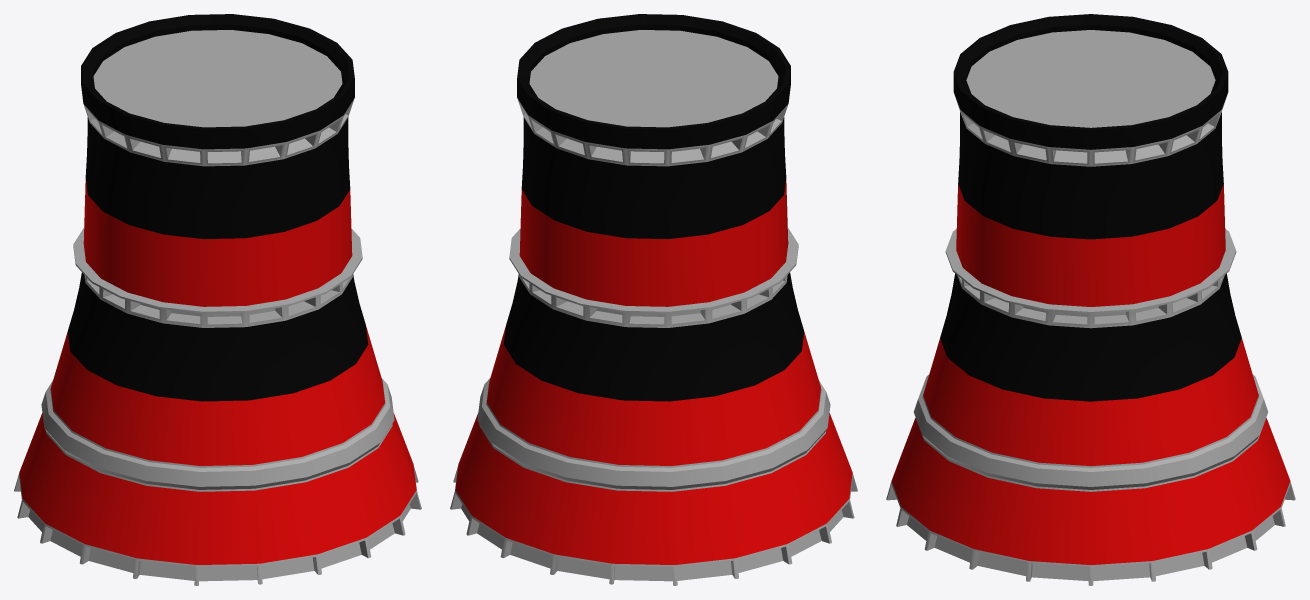
Rendered from TEST nuc.fbx.
The picture shows the model from 3 angles, left to right: view 1: azimuth 30°, elevation 25°; view 2: azimuth 150°, elevation 25°; view 3: azimuth 270°, elevation 25°; orthographic projection.
Parts seen in each view (by area): view 1: big_tube_Cylinder_1_; view 2: big_tube_Cylinder_1_; view 3: big_tube_Cylinder_1_.
Part boxes in pixels (x1,y1,x2,y2): big_tube_Cylinder_1_: [14, 14, 421, 585]; big_tube_Cylinder_1_: [450, 14, 857, 585]; big_tube_Cylinder_1_: [886, 14, 1295, 585].
Size of the model in its own units: 20.02 by 23.04 by 20.02.
